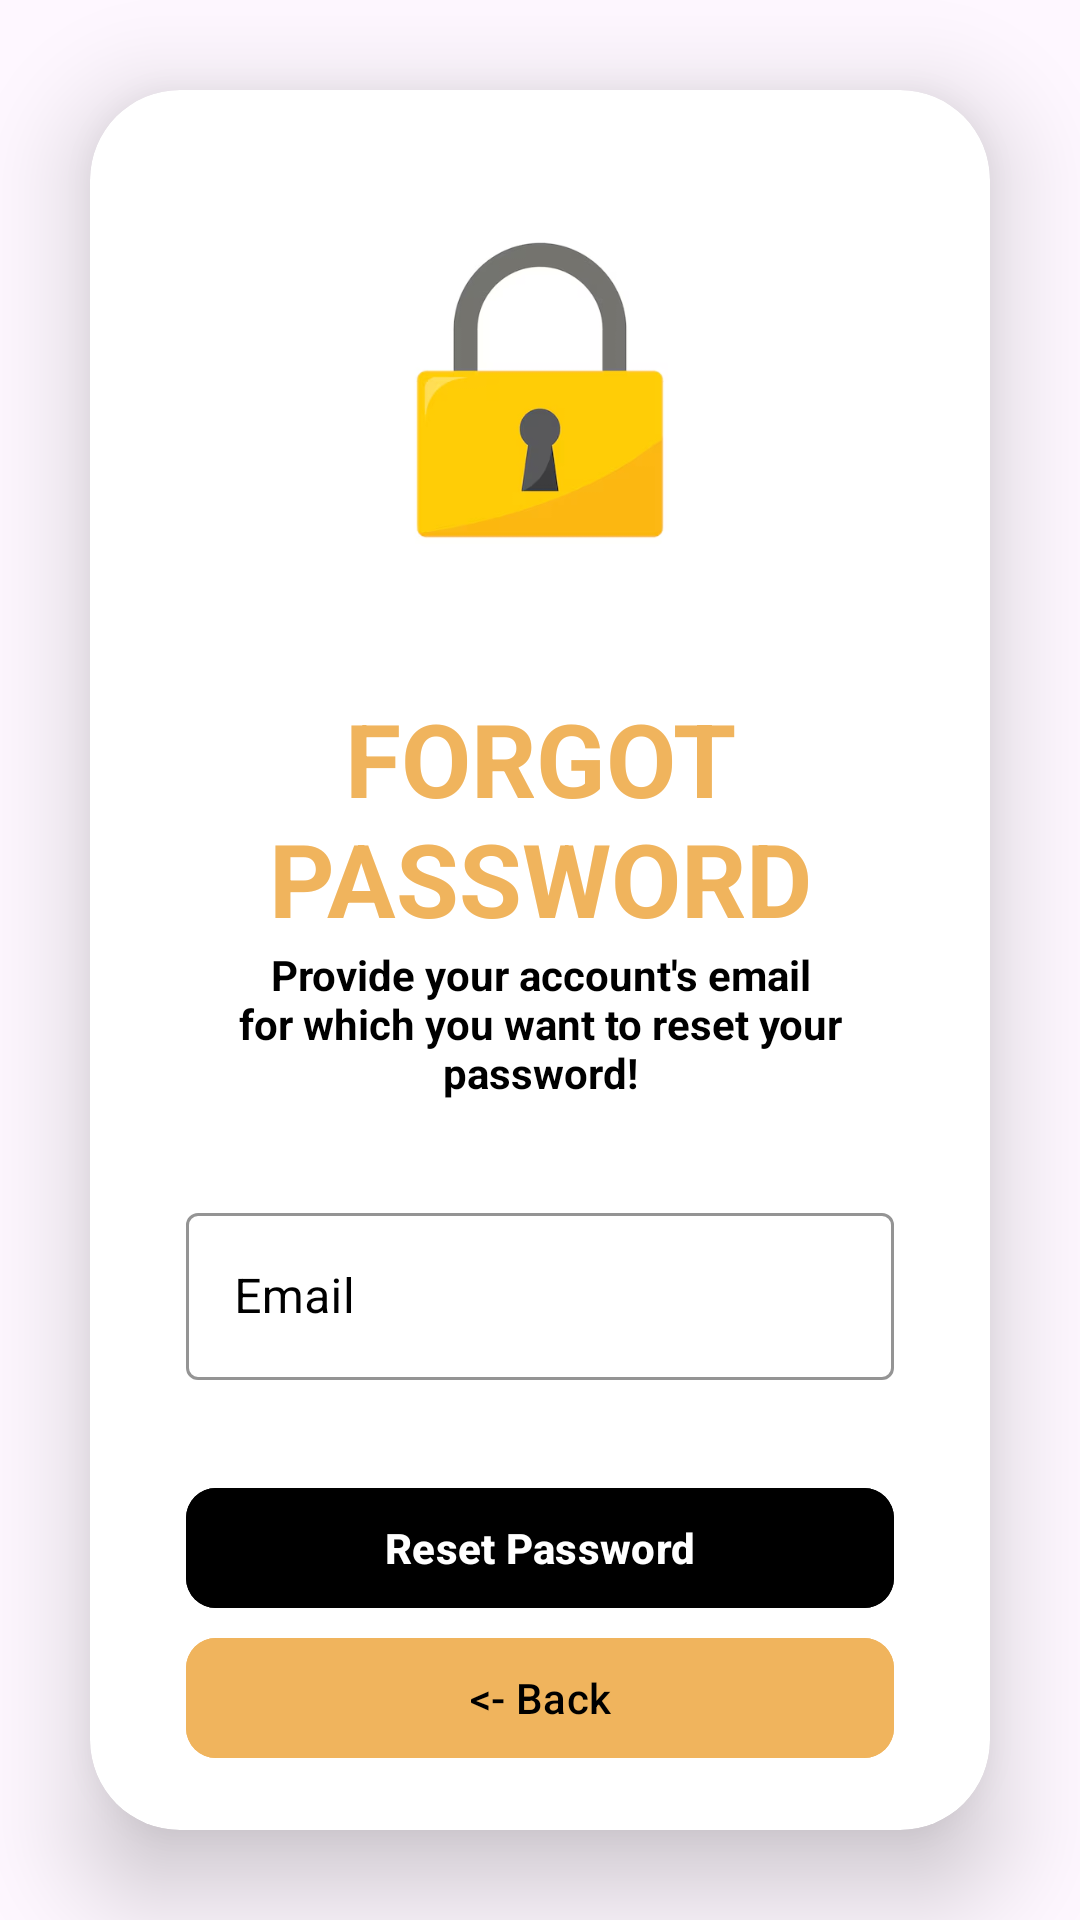

Named icons in this screenshot (1080*1920) and their centers, (x=x, y=y):
lock: (x=540, y=390)
